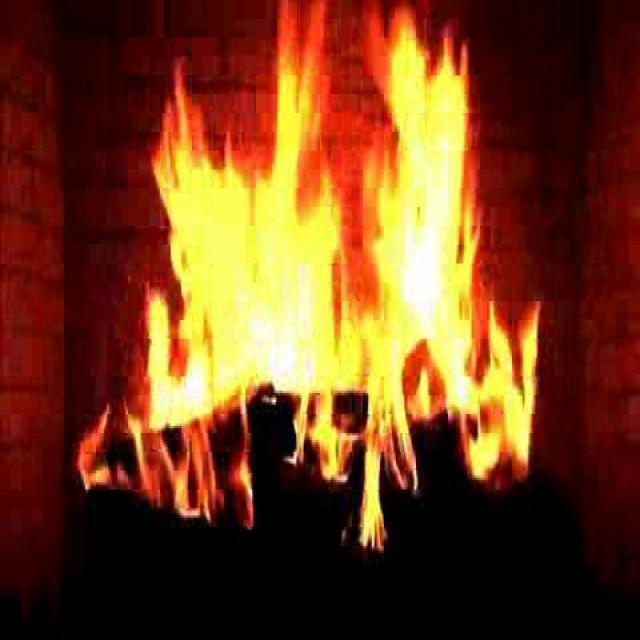Fire: (139, 68, 526, 500)
